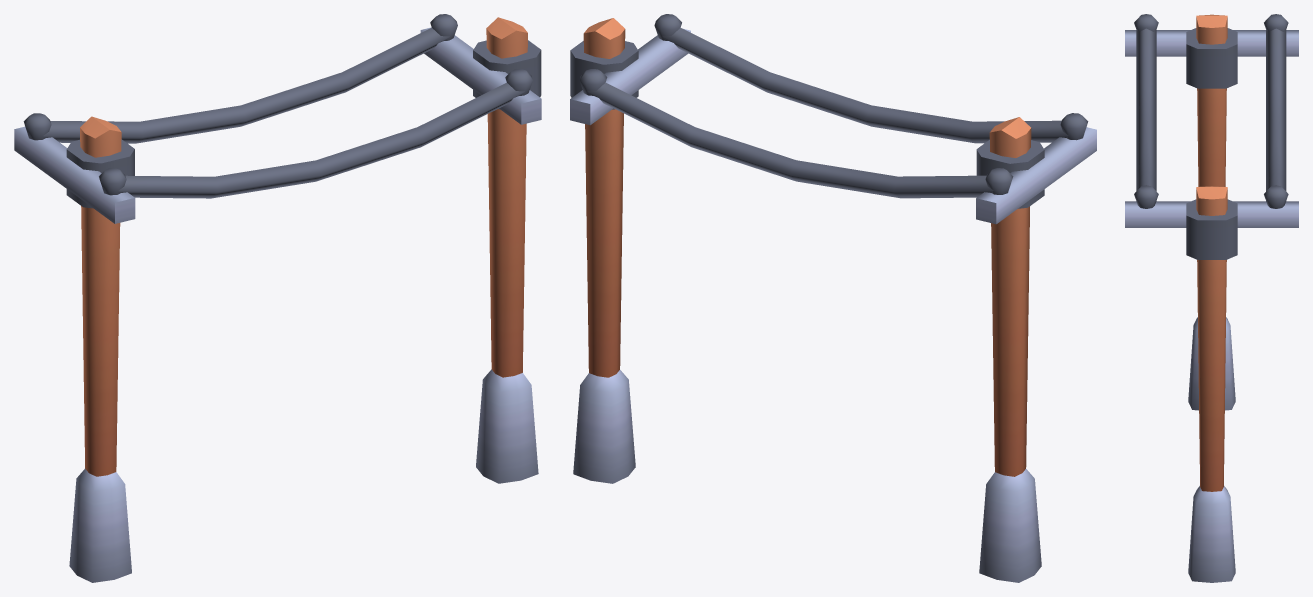
The model's file is k-city-kit-roads-electricity-pole.glb.
3 views of the same model, side by side, from view 1: azimuth 30°, elevation 25°; view 2: azimuth 150°, elevation 25°; view 3: azimuth 270°, elevation 25° (orthographic). The views are drawn at different scales.
Parts seen in each view (by area): view 1: electricity-pole; view 2: electricity-pole; view 3: electricity-pole.
Boxes of the visible parts, x1=… form: electricity-pole: x1=14, y1=14, x2=541, y2=582; electricity-pole: x1=570, y1=14, x2=1096, y2=582; electricity-pole: x1=1125, y1=14, x2=1298, y2=582.
Size of the model in its own units: 0.5791 by 0.525 by 0.2142.
1 material, 1 textured.
